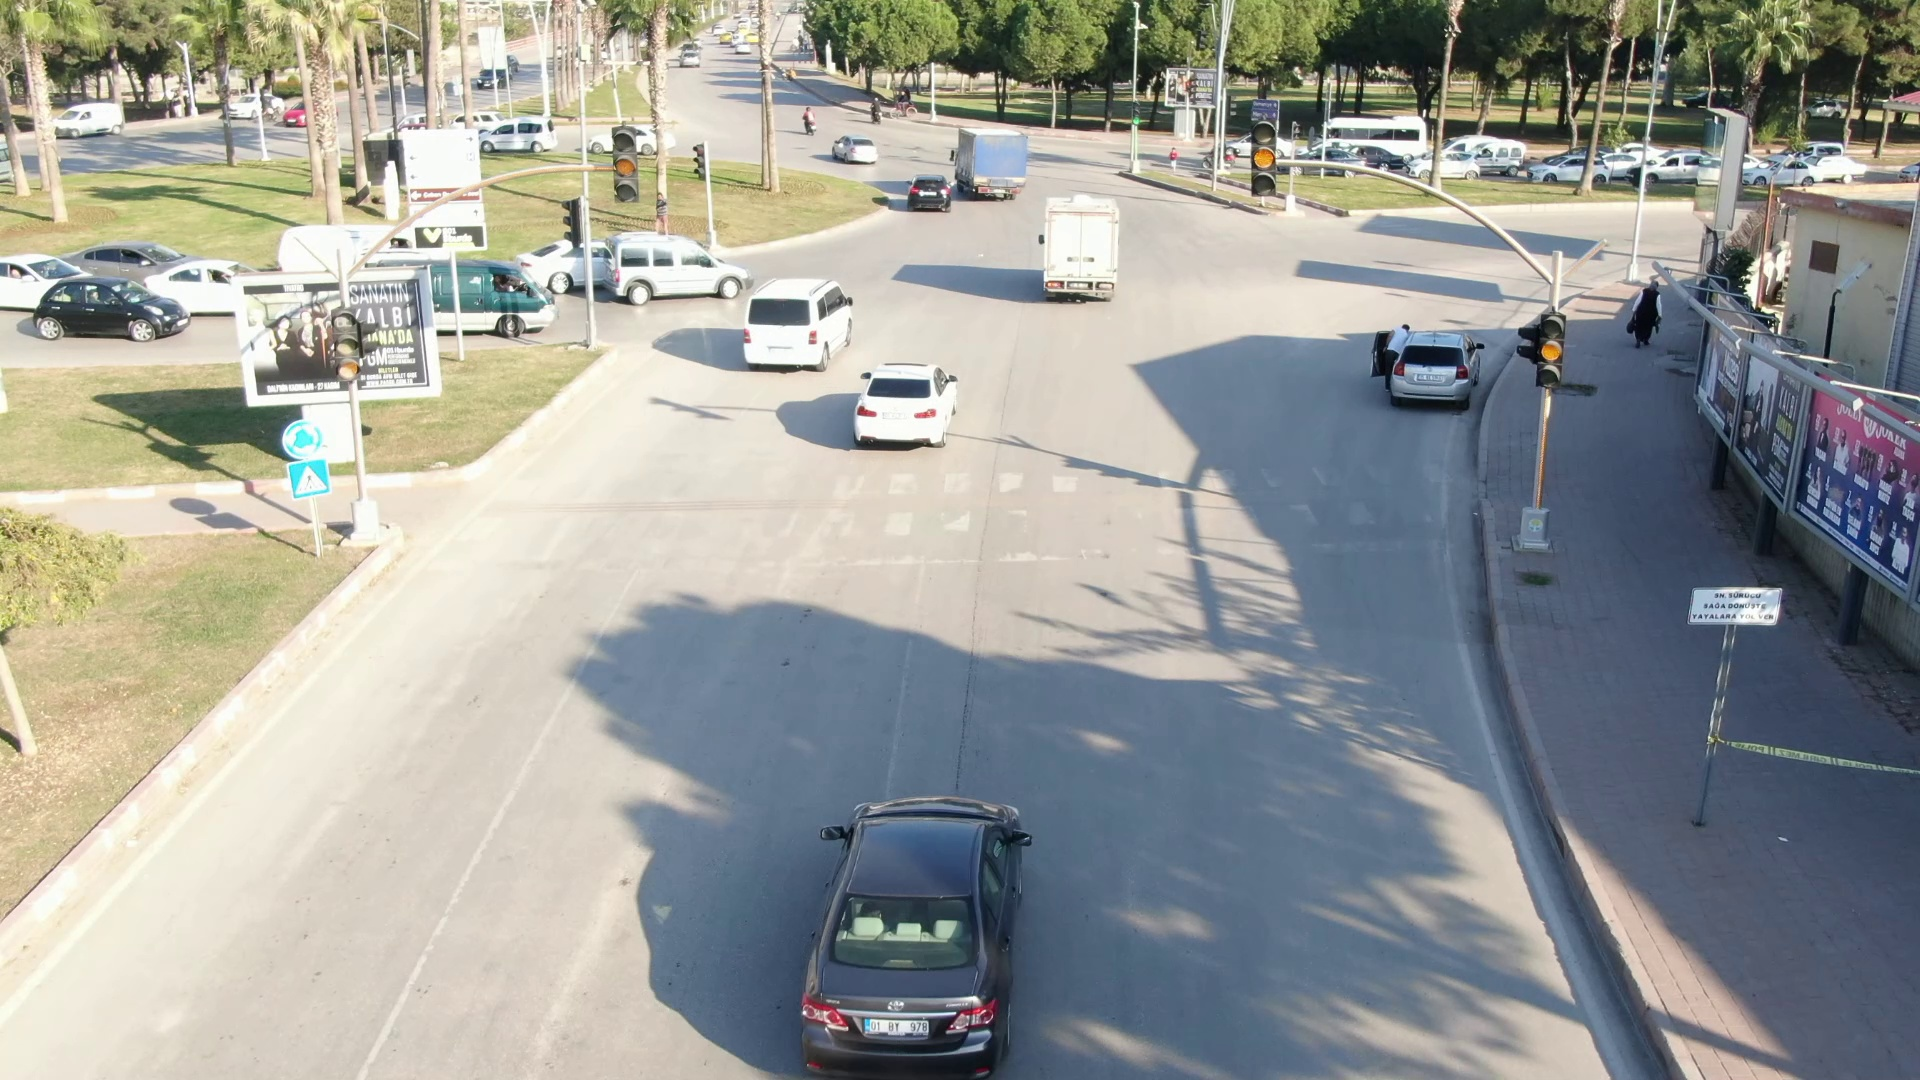car: (762, 758, 1099, 1080), (598, 224, 755, 312), (1030, 181, 1128, 315), (734, 276, 859, 378), (840, 353, 971, 448), (951, 120, 1036, 205), (1396, 337, 1486, 412), (899, 161, 954, 219)
person: (1616, 273, 1673, 355)
